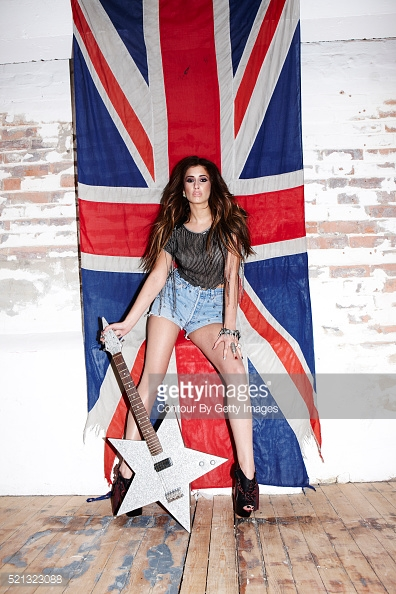em pe: (111, 138, 255, 515)
